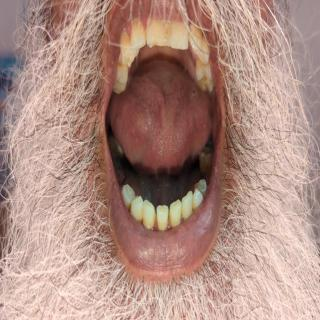stains: (136, 208, 148, 228), (189, 197, 200, 215)
